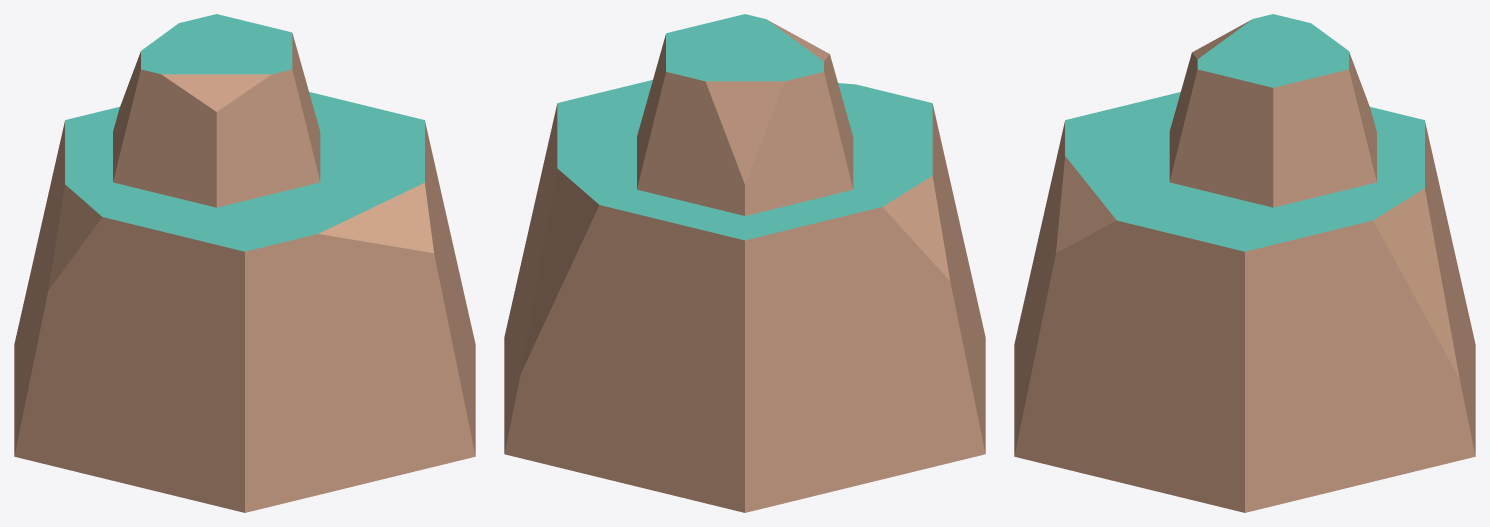
Rendered from rock_smallE.glb.
3 renders of one model, left to right at view 1: azimuth 30°, elevation 25°; view 2: azimuth 150°, elevation 25°; view 3: azimuth 270°, elevation 25°, orthographic. The views are drawn at different scales.
Visible parts, largest first — view 1: rock_smallE; view 2: rock_smallE; view 3: rock_smallE.
Part boxes in pixels (x1=…): rock_smallE: x1=14, y1=14, x2=475, y2=512; rock_smallE: x1=504, y1=14, x2=985, y2=512; rock_smallE: x1=1014, y1=14, x2=1475, y2=512.
Bounding box in the file's own units: 0.3608 × 0.2562 × 0.3125.
